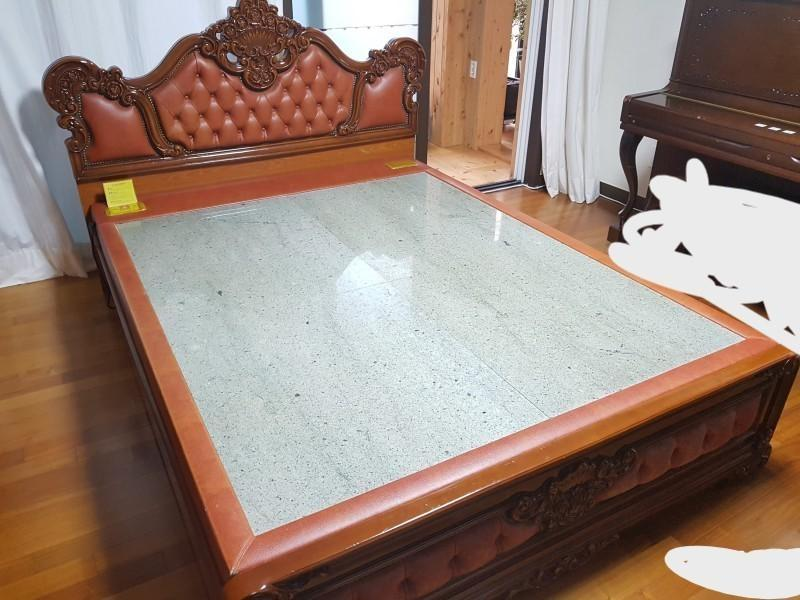Bed-Mattress: (29, 22, 783, 563)
